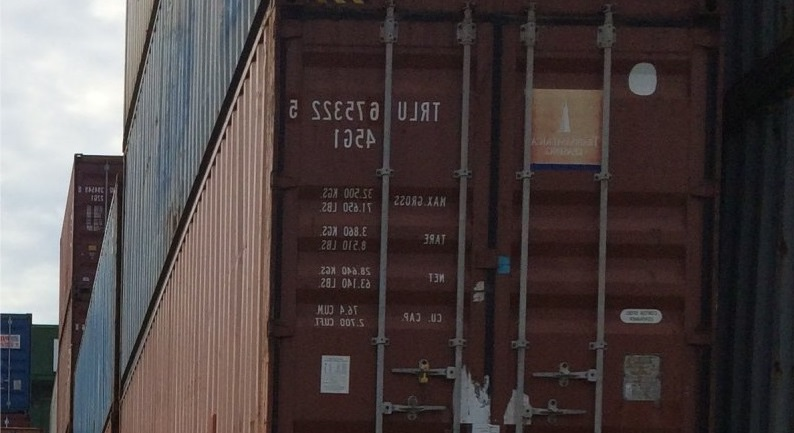container_door: (278, 6, 716, 432)
